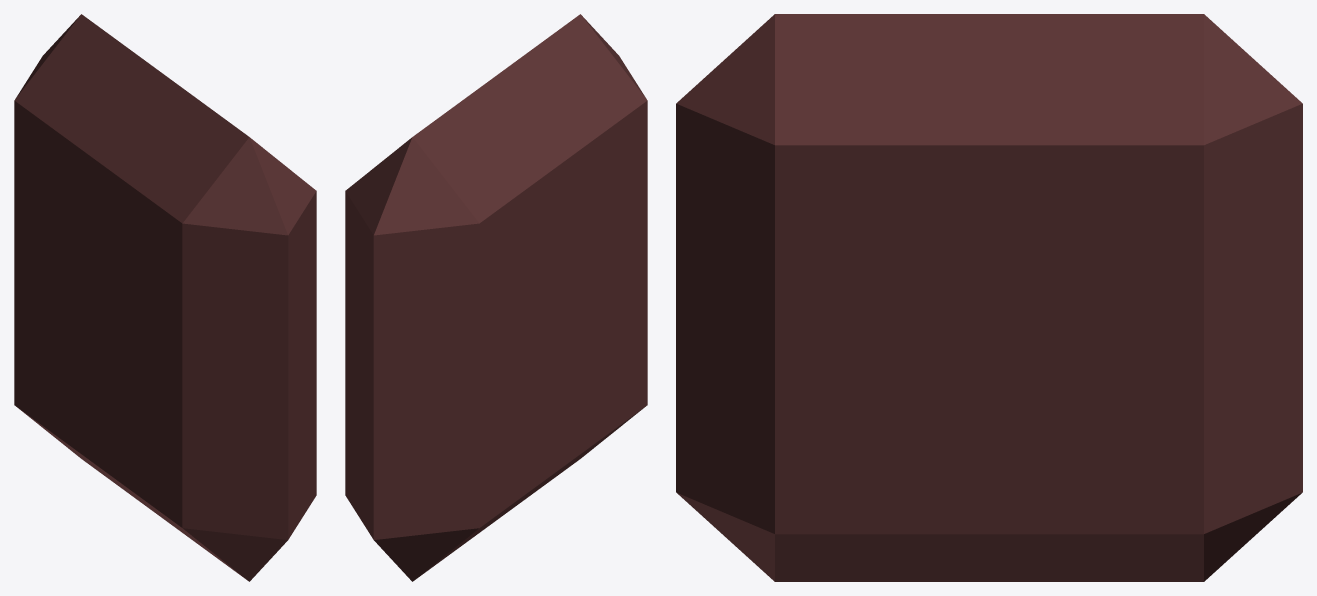
File: CouchPillow_1.fbx
3 views of the same model, side by side, from view 1: azimuth 30°, elevation 25°; view 2: azimuth 150°, elevation 25°; view 3: azimuth 270°, elevation 25° (orthographic). The views are drawn at different scales.
Parts seen in each view (by area): view 1: pCube1; view 2: pCube1; view 3: pCube1.
Part boxes in pixels (x1,y1,x2,y2): pCube1: [14, 14, 316, 581]; pCube1: [345, 14, 647, 581]; pCube1: [676, 14, 1302, 581].
Size of the model in its own units: 0.0011 by 0.00349 by 0.00349.
